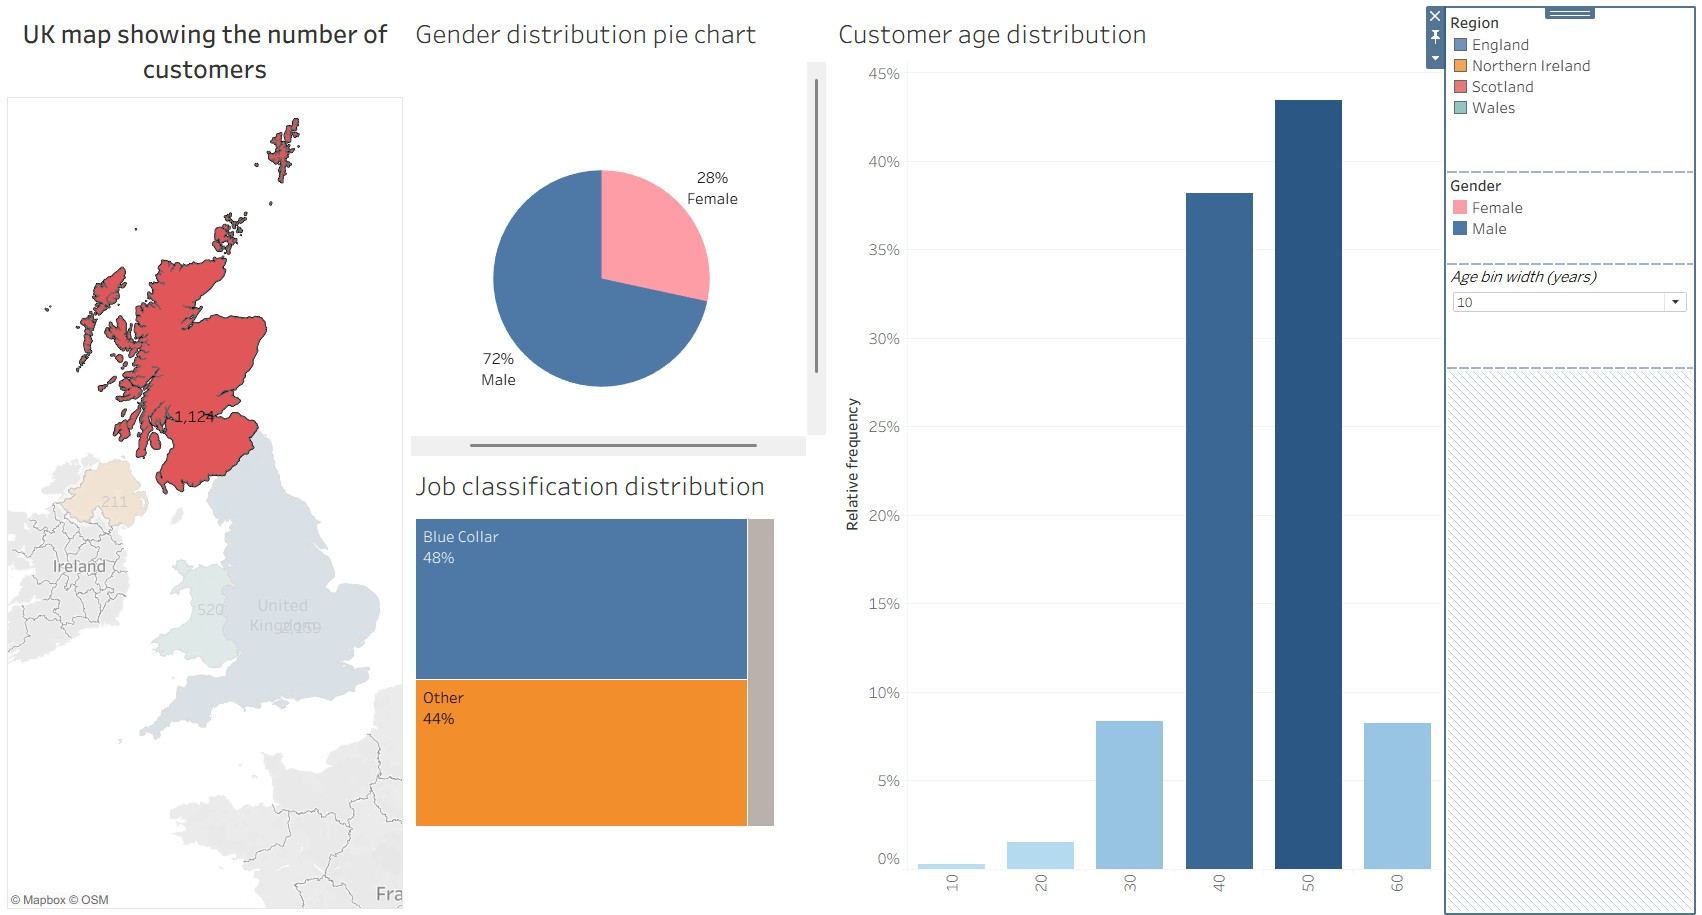

What the dashboard file says about the page in this screenshot:
{"tool":"tableau","page":{"name":"Dashboard 1","canvas":[1000,1000],"units":"permille","ordinal":0},"visuals":[{"type":"worksheet","title":"Map","mark":"Multipolygon","box":[4.7,8.7,236.6,982.6]},{"type":"worksheet","title":"gender","mark":"Pie","box":[241.3,8.7,248.1,491.3]},{"type":"worksheet","title":"Age dist","mark":"Bar","rows":["S6-UK-Bank-Customers.csv_479541E6DEAB4D7190B0BE128150E17F"],"cols":["Age (bin)"],"box":[489.4,8.7,360.6,982.6]},{"type":"legend","title":"Map","param":"[federated.078by6z05r8kya18dkha504j1cbo].[none:Region:nk]","box":[850,8.7,145.3,177]},{"type":"legend","title":"gender","param":"[federated.078by6z05r8kya18dkha504j1cbo].[none:Gender:nk]","box":[850,185.7,145.3,99.9]},{"type":"parameter","param":"[Parameters].[Parameter 2]","box":[850,285.6,145.3,112.9]},{"type":"worksheet","title":"Sheet 6","mark":"Automatic","box":[241.3,500,248.1,491.3]}]}

Visuals, with their boxes on the dashboard's canvas, which has no fixed pixel size, in thousandths of its width and height (x1, y1, x2, y2). These are canvas units, not pixel positions in the 1702x915 screenshot, which may show the page scaled, cropped or inside an application window:
"Map" worksheet (Multipolygon marks): x1=5, y1=9, x2=241, y2=991
"gender" worksheet (Pie marks): x1=241, y1=9, x2=489, y2=500
"Age dist" worksheet (Bar marks): x1=489, y1=9, x2=850, y2=991
"Map" legend: x1=850, y1=9, x2=995, y2=186
"gender" legend: x1=850, y1=186, x2=995, y2=286
parameter: x1=850, y1=286, x2=995, y2=398
"Sheet 6" worksheet: x1=241, y1=500, x2=489, y2=991
